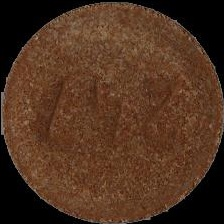0555-9026: (0, 0, 224, 224)
